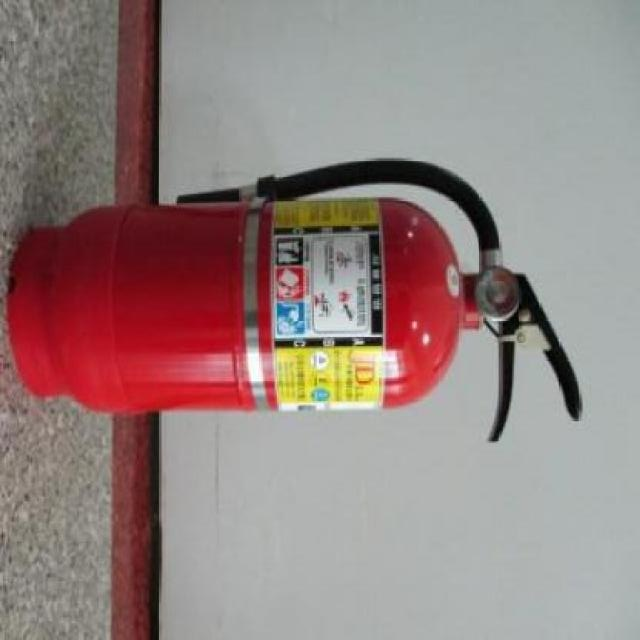fire extinguisher: (8, 159, 583, 444)
